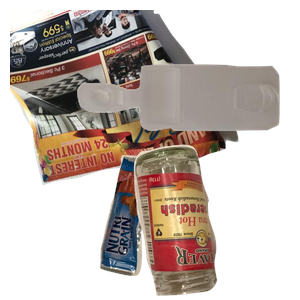glass: (131, 142, 300, 300)
paper: (10, 10, 241, 188)
plastic: (75, 62, 300, 186)
trash: (97, 152, 248, 300)
